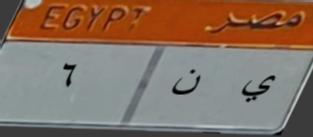6: (56, 60, 82, 90)
noon: (165, 65, 209, 103)
yaa: (238, 64, 280, 103)
